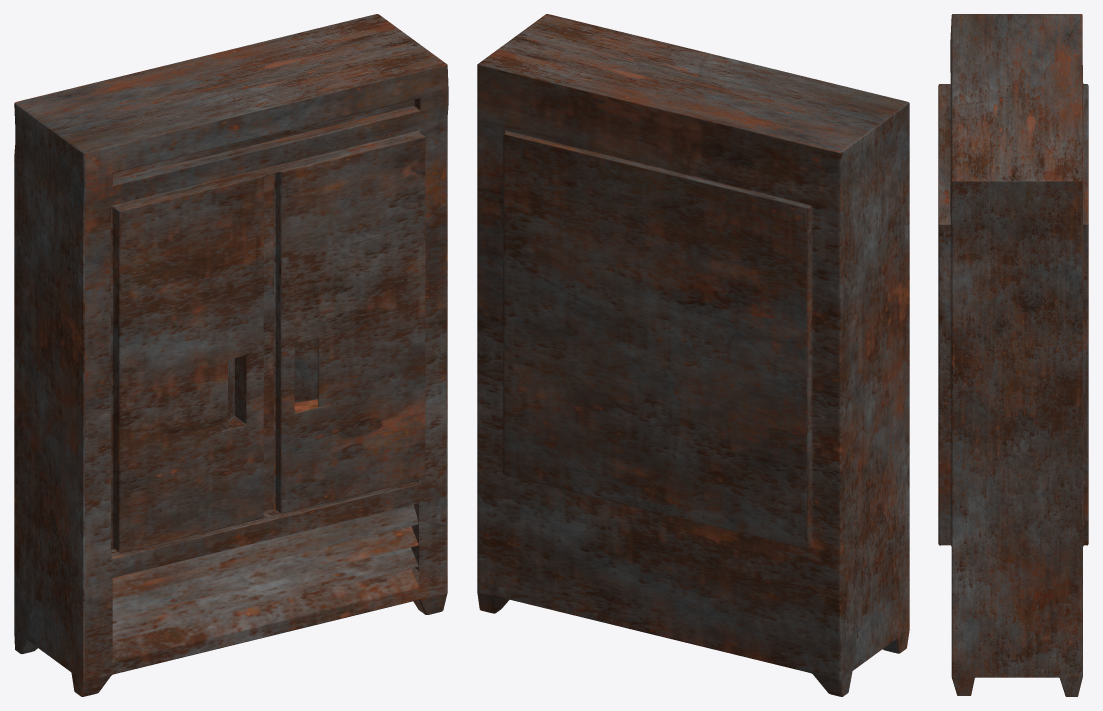
The model's file is seila.fbx.
3 renders of one model, left to right at view 1: azimuth 30°, elevation 25°; view 2: azimuth 150°, elevation 25°; view 3: azimuth 270°, elevation 25°, orthographic. The views are drawn at different scales.
Parts seen in each view (by area): view 1: Cube; view 2: Cube; view 3: Cube.
Boxes of the visible parts, bbox=[...] form: Cube: bbox=[14, 14, 448, 696]; Cube: bbox=[477, 14, 909, 696]; Cube: bbox=[938, 14, 1088, 696].
Bounding box in the file's own units: 654 × 938 × 247.
Materials: 1 (1 with a texture image).
